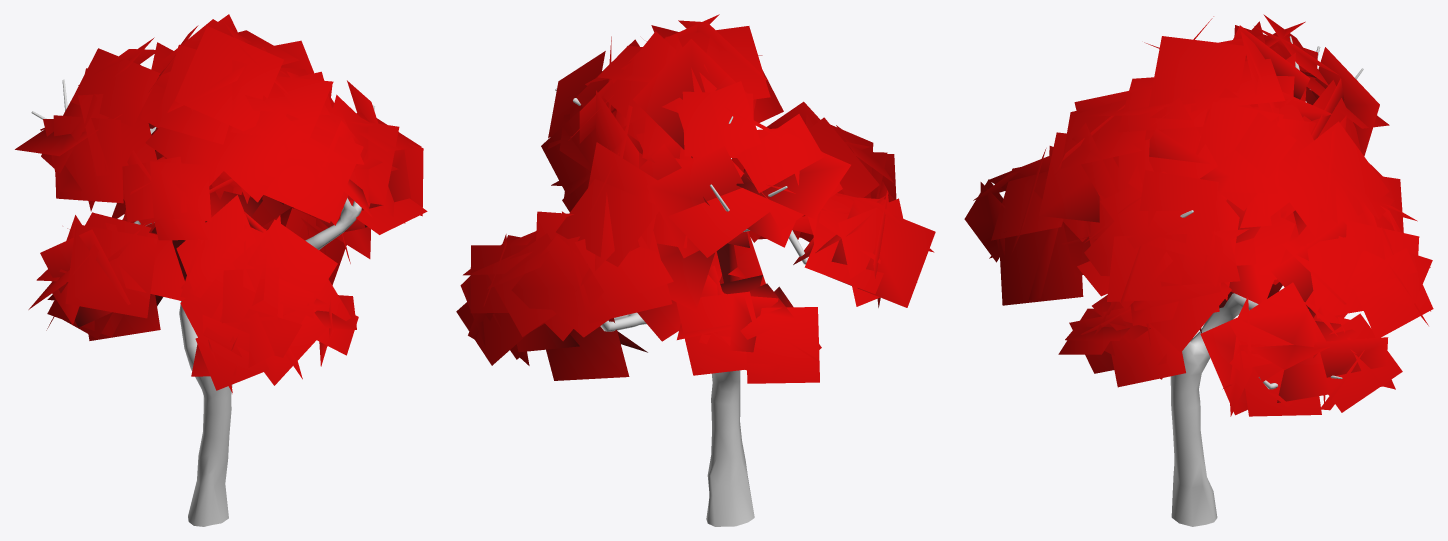
File: SM_Tree3.fbx
The picture shows the model from 3 angles, left to right: view 1: azimuth 30°, elevation 25°; view 2: azimuth 150°, elevation 25°; view 3: azimuth 270°, elevation 25°; orthographic projection. The views are drawn at different scales.
Parts seen in each view (by area): view 1: Leaves.005, Tree Trunk3.1; view 2: Leaves.005, Tree Trunk3.1; view 3: Leaves.005, Tree Trunk3.1.
Boxes of the visible parts, x1,y1,x2,y2 form: Leaves.005: (15, 14, 427, 393); Tree Trunk3.1: (31, 79, 374, 526); Leaves.005: (456, 14, 935, 383); Tree Trunk3.1: (555, 88, 807, 526); Leaves.005: (964, 14, 1433, 416); Tree Trunk3.1: (1170, 36, 1363, 526).
Bounding box in the file's own units: 4.64 × 5.81 × 4.87.
